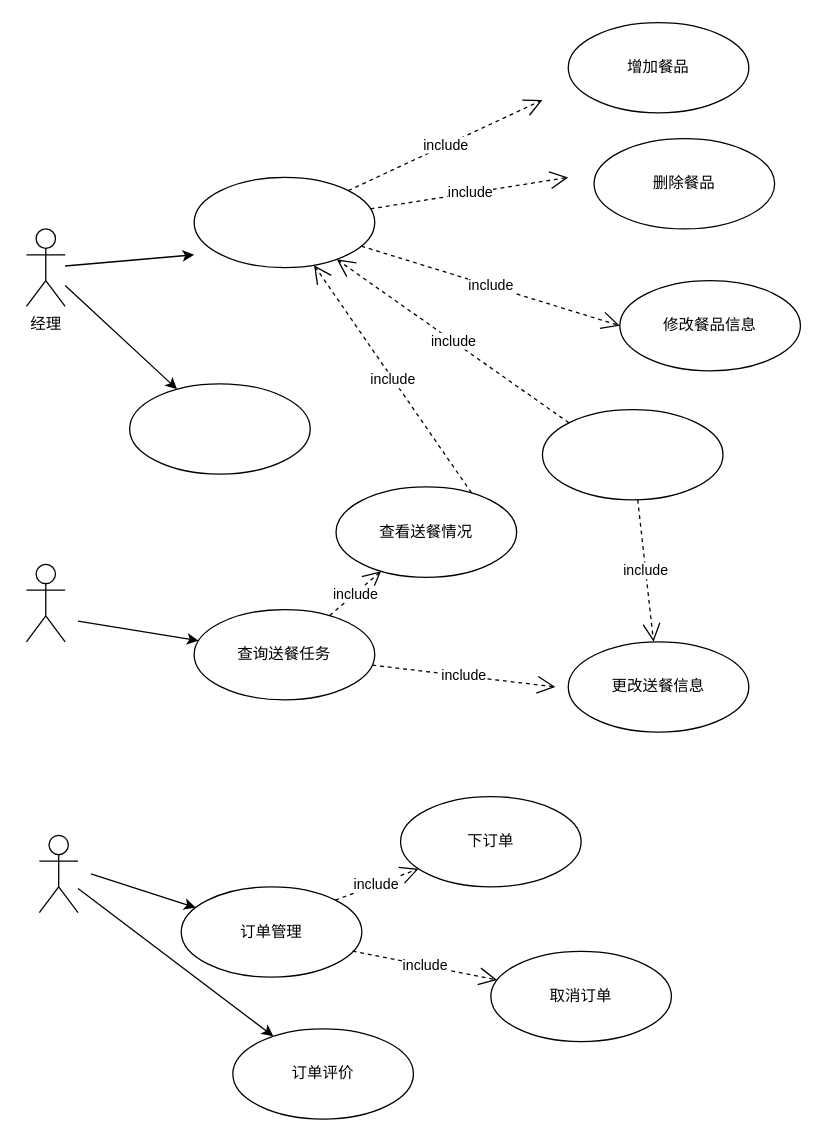
This 823x1142 diagram has some shape labels left out. The shapes that lost their labels are listed below. From the top down, each one's centre as x and y in pixels, then its label:
At (x=284, y=222): "餐单管理".
At (x=219, y=428): "服务员信息管理".
At (x=632, y=454): "指定送餐员".
At (x=45, y=602): "服务员".
At (x=58, y=873): "员工".
